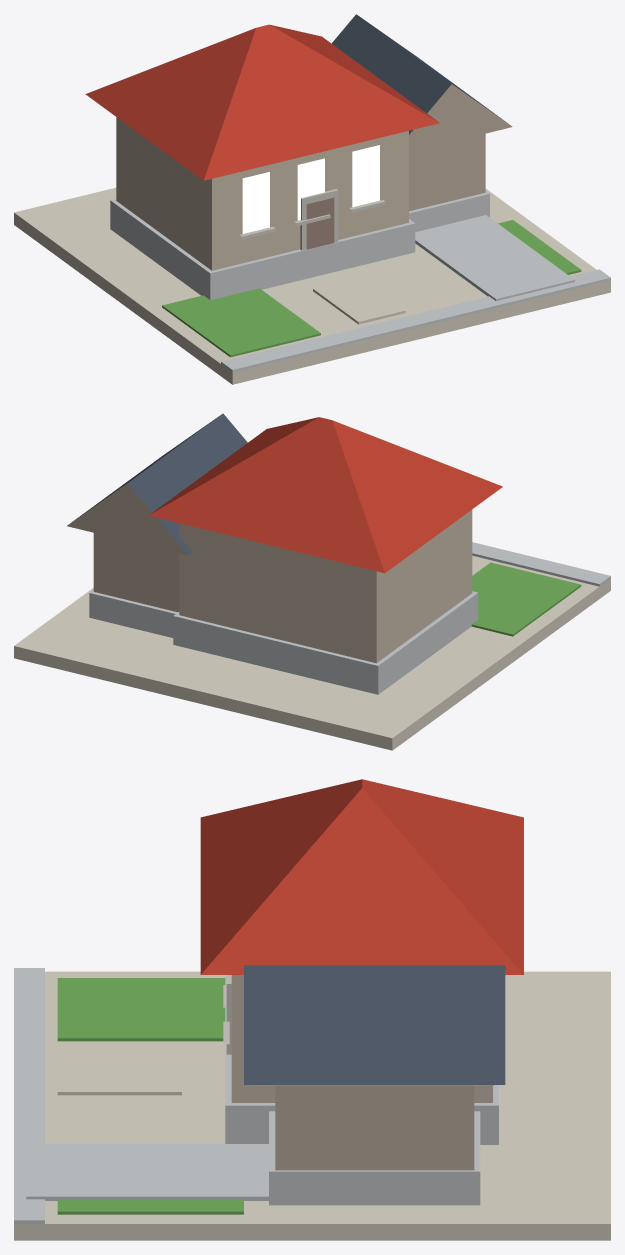
3 views of the same model, one above another, from view 1: azimuth 30°, elevation 25°; view 2: azimuth 150°, elevation 25°; view 3: azimuth 270°, elevation 25° (orthographic). The views are drawn at different scales.
Parts seen in each view (by area): view 1: b02_v2_lod1; view 2: b02_v2_lod1; view 3: b02_v2_lod1.
Boxes of the visible parts, x1,y1,x2,y2 form: b02_v2_lod1: (14, 14, 610, 384); b02_v2_lod1: (14, 413, 610, 750); b02_v2_lod1: (14, 779, 610, 1240).
Bounding box in the file's own units: 0.96 × 0.55 × 0.96.
